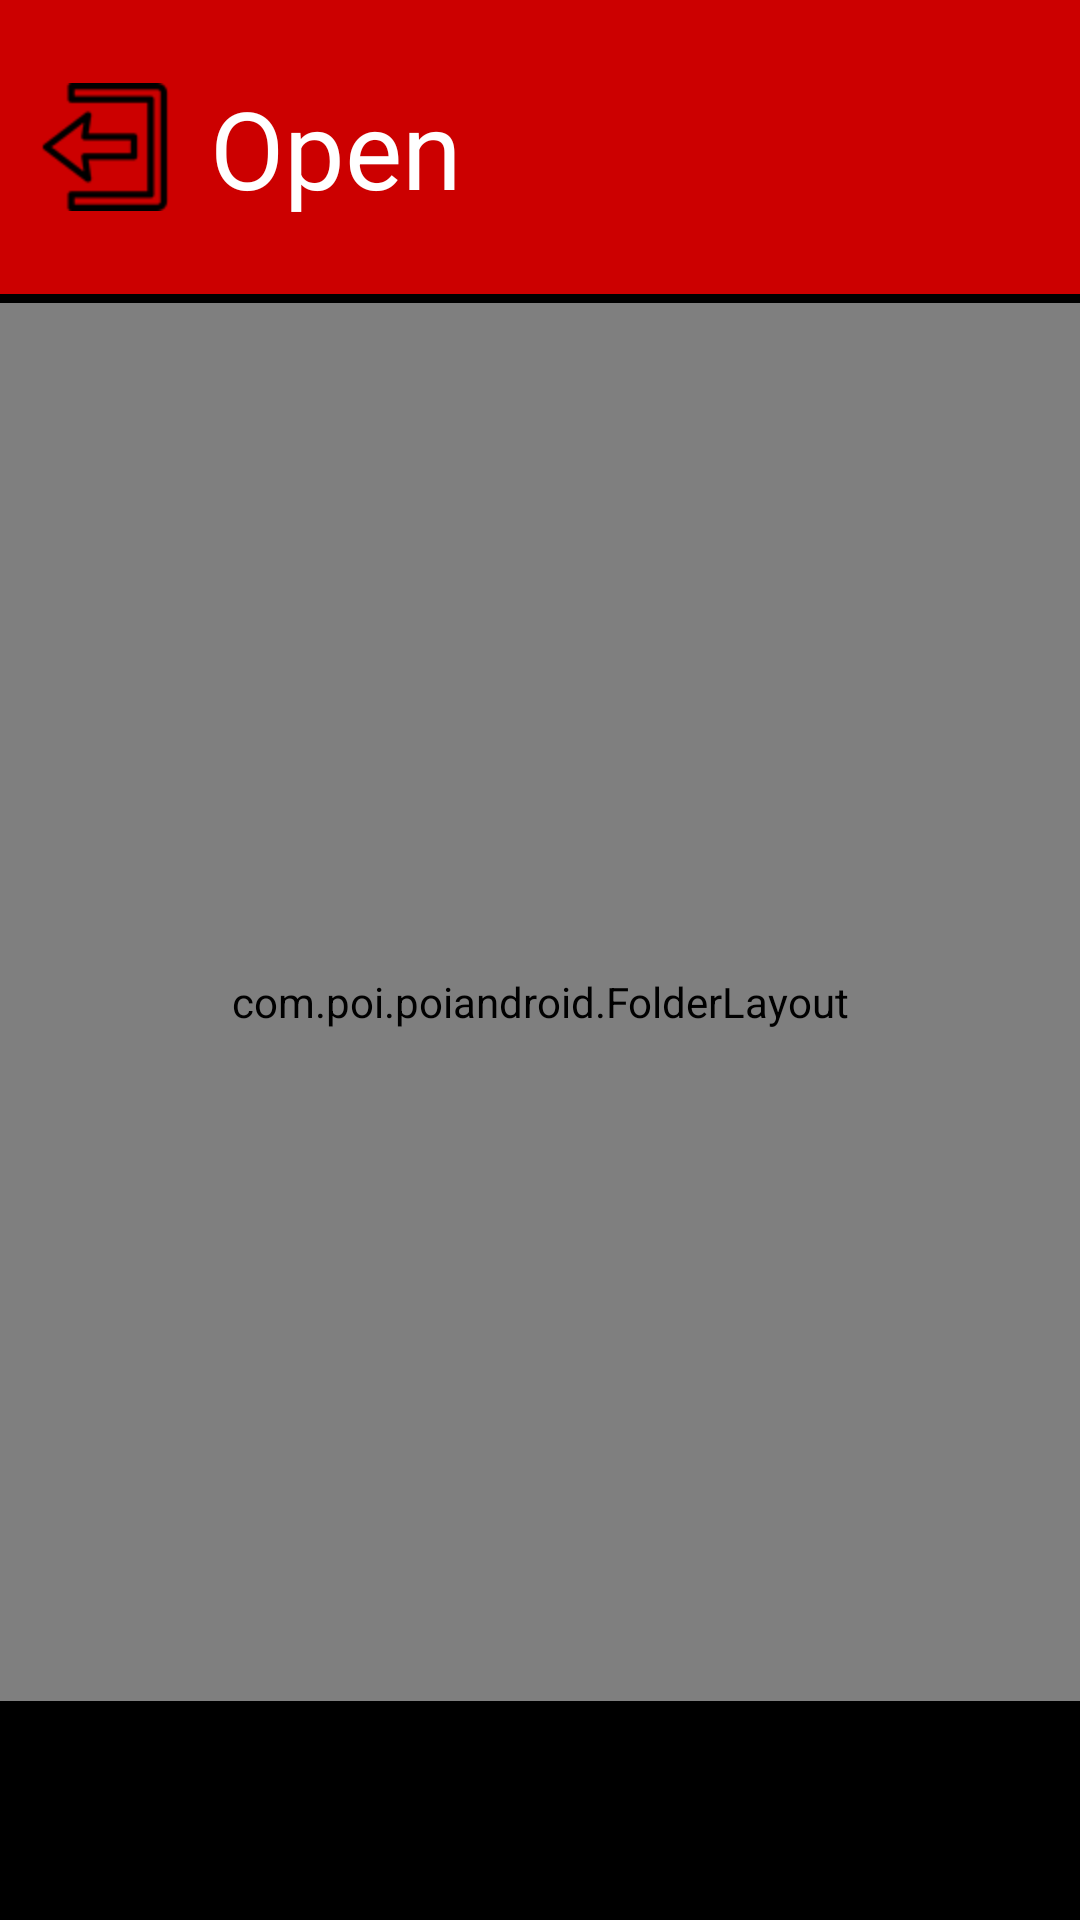

Where to tap for icons on this 1080×1920 app screen, as (x,y):
return: (105,147)
